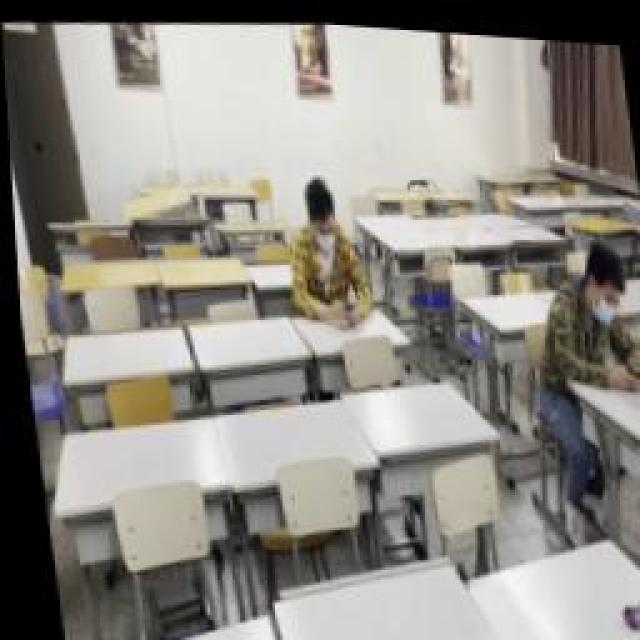phone: (547, 222, 640, 387), (273, 165, 365, 313)
